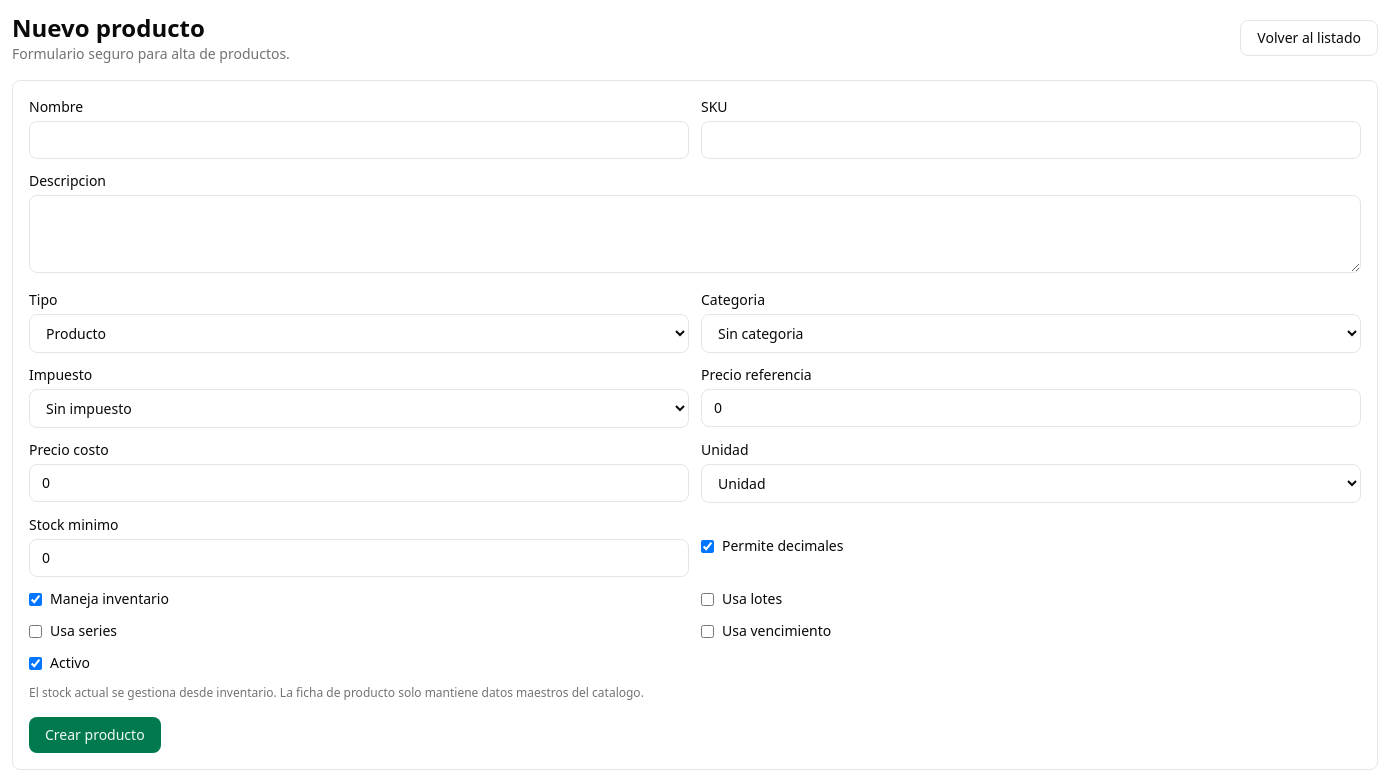
Test: productos/ProductosCreatePage › muestra contrato de error backend al crear producto
Type "Vacuna antirrabica" into the field labelled "Nombre".
click(359, 140); type("Vacuna antirrabica")  # box [29,121,689,159]
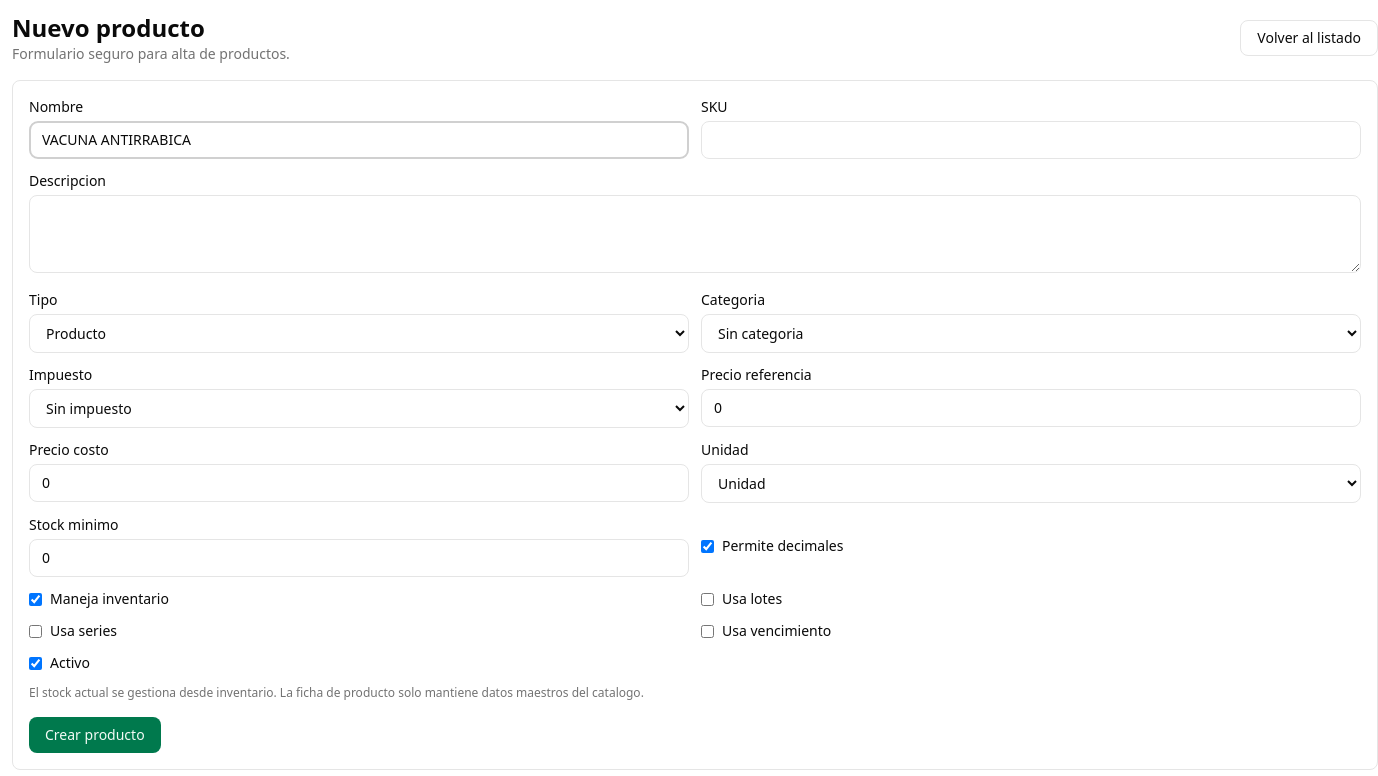
Type "VAC-001" into the field labelled "SKU".
click(1031, 140); type("VAC-001")  # box [701,121,1361,159]
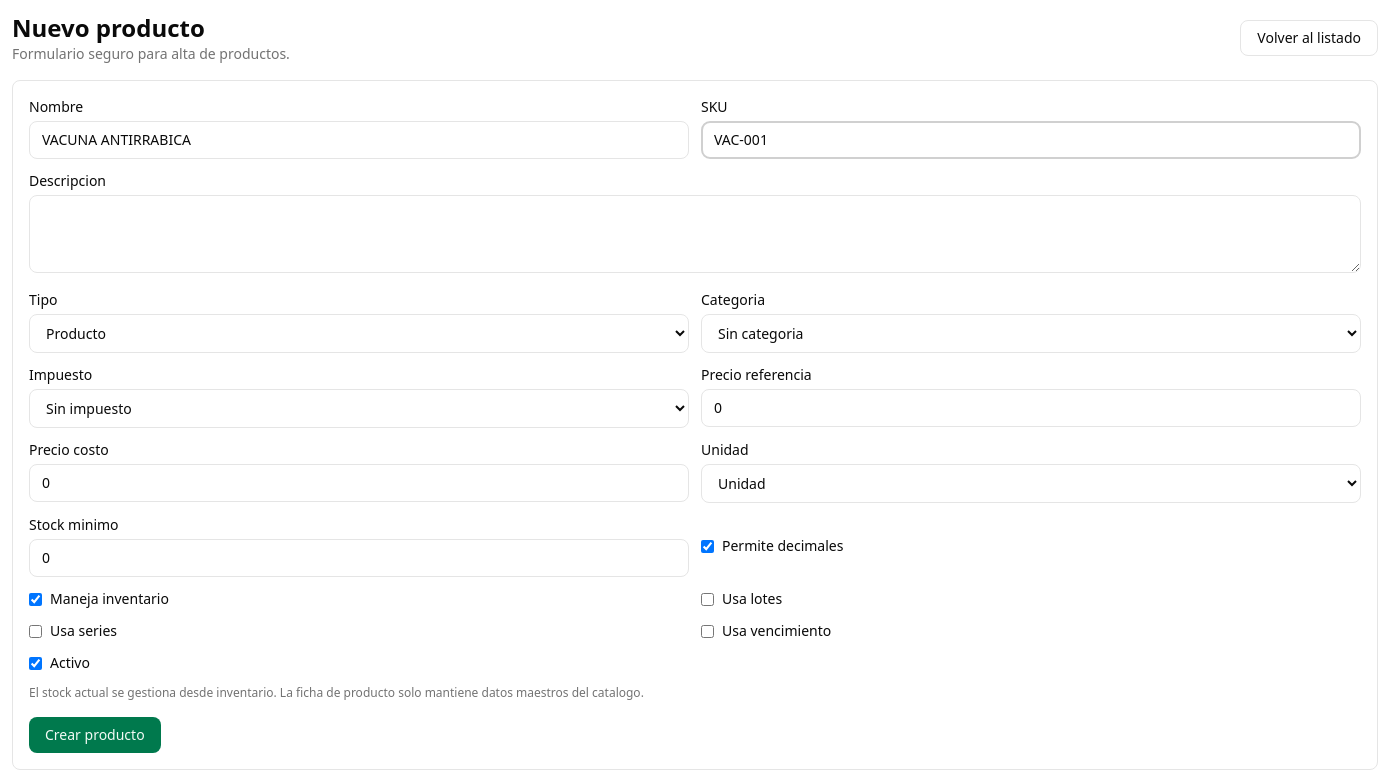
Replace the text in the number field labelled "Precio referencia" with "12000" at (1031, 408), box [701,389,1361,427]
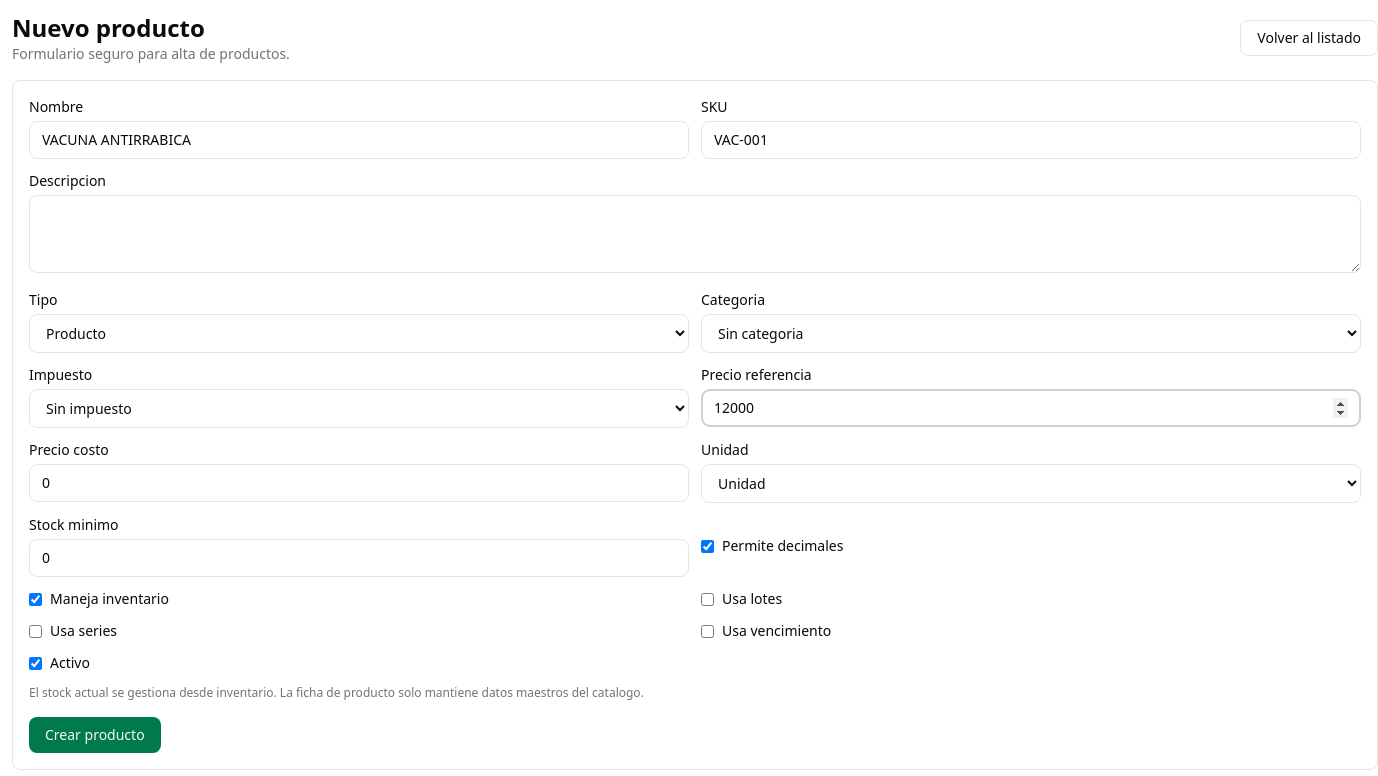
Replace the text in the number field labelled "Precio costo" with "7000" at (359, 483), box [29,464,689,502]
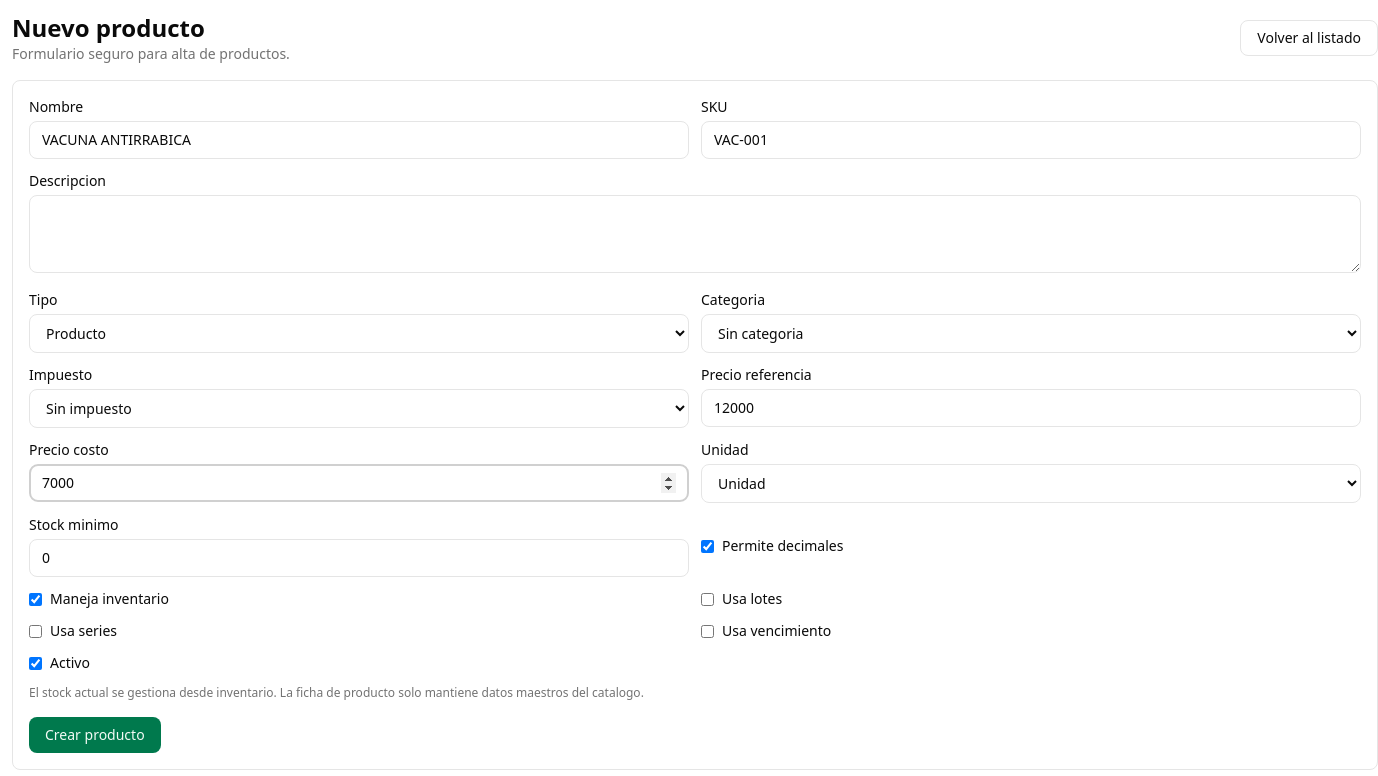
Click the button "Crear producto".
click(95, 735)  # box [29,717,161,753]
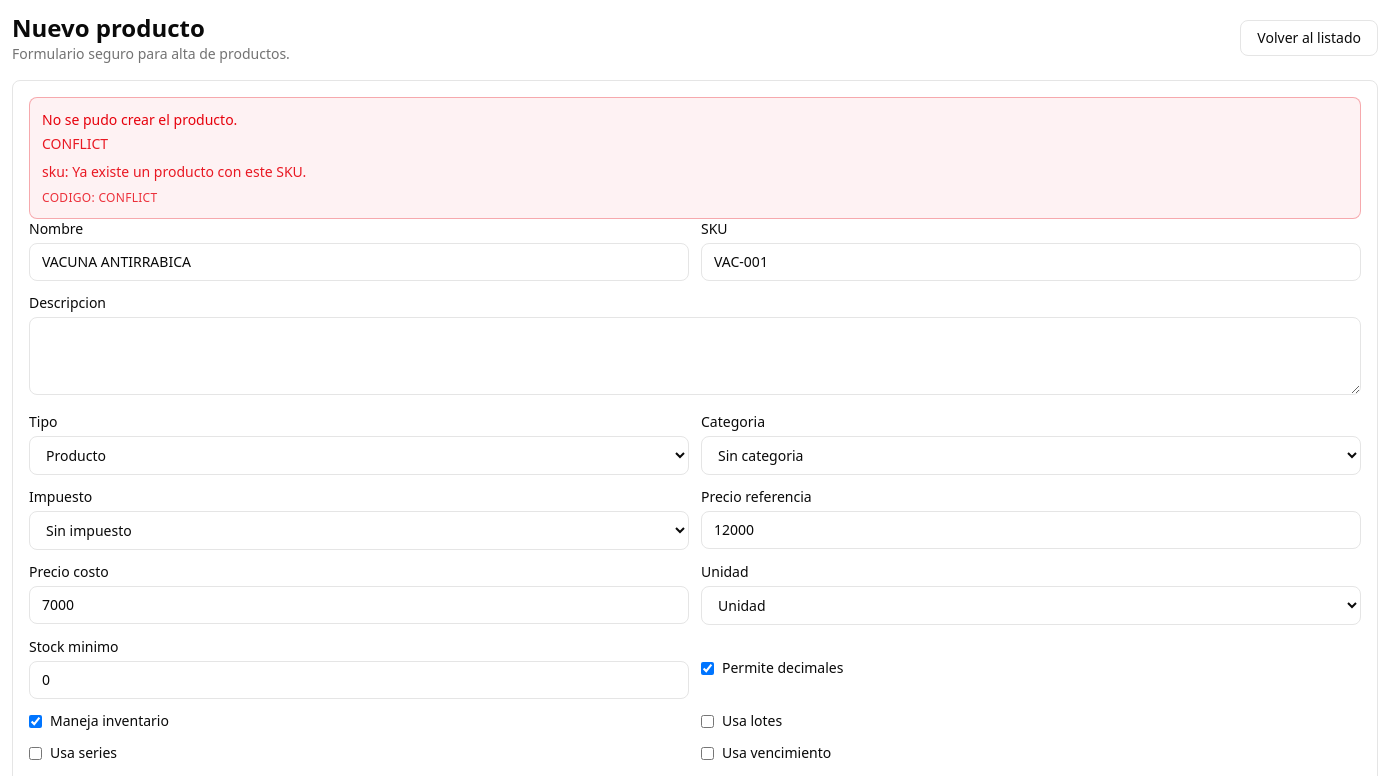
Expected: the text "sku: Ya existe un producto con este SKU." is shown, [42,162,306,181]
Expected: the text "Codigo: CONFLICT" is shown, [42,189,158,206]
